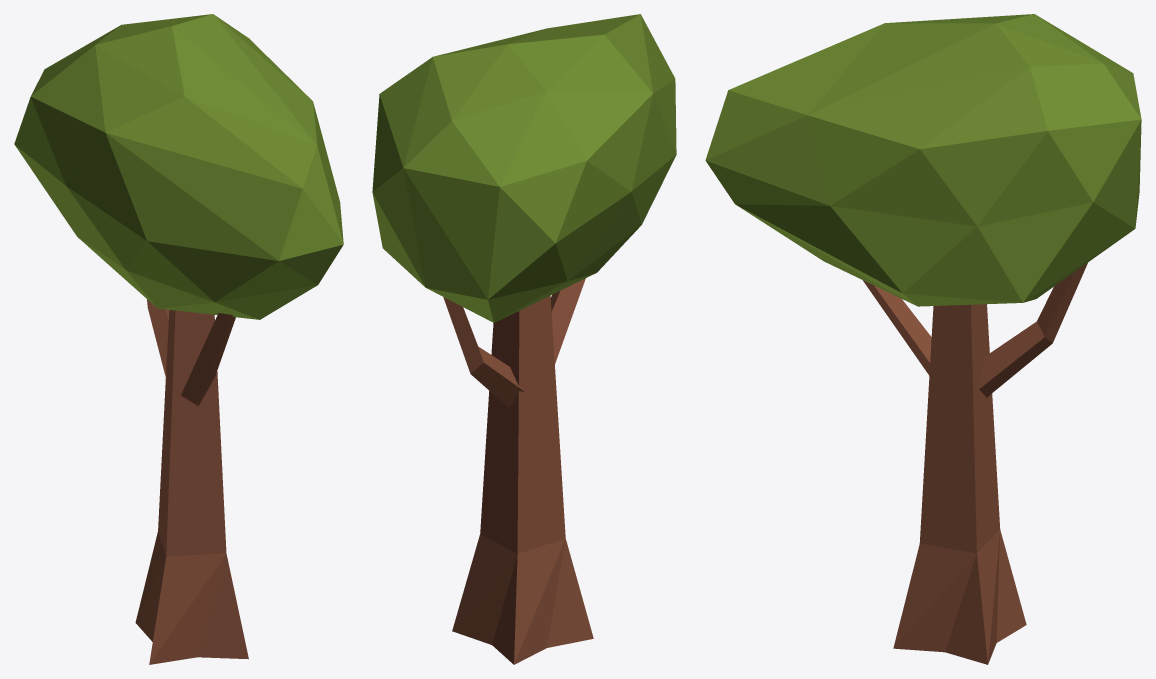
The model's file is Tree_37_autumn_mat.fbx.
3 renders of one model, left to right at view 1: azimuth 30°, elevation 25°; view 2: azimuth 150°, elevation 25°; view 3: azimuth 270°, elevation 25°, orthographic.
Parts seen in each view (by area): view 1: Tree_37_autumn_mat; view 2: Tree_37_autumn_mat; view 3: Tree_37_autumn_mat.
Boxes of the visible parts, <box> form: Tree_37_autumn_mat: <box>14,14,343,664</box>; Tree_37_autumn_mat: <box>372,14,676,664</box>; Tree_37_autumn_mat: <box>705,14,1141,664</box>.
Bounding box in the file's own units: 3.75 × 9.34 × 6.03.
